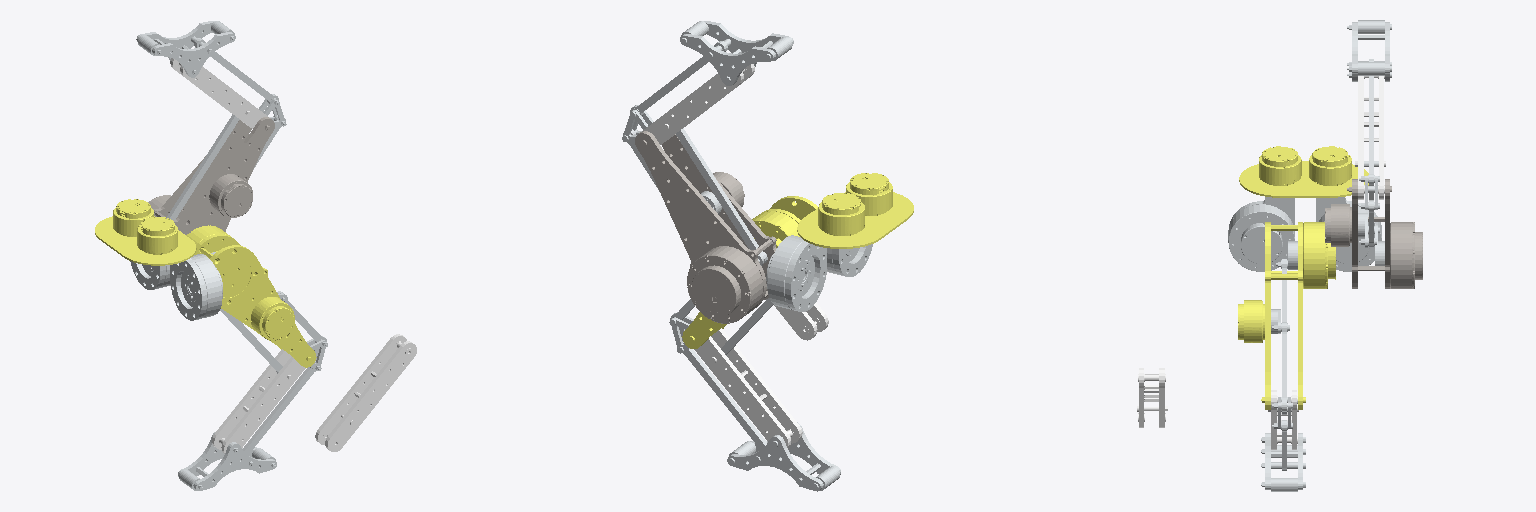
--- Render facts (derived) ---
The picture shows the robot from 3 angles, left to right: view 1: azimuth 30°, elevation 25°; view 2: azimuth 150°, elevation 25°; view 3: azimuth 270°, elevation 25°; orthographic projection.
Model Birobot with 29 links and 28 joints (28 revolute), rooted at base_link, posed all joints at 0.
Links seen in each view (by area): view 1: Rthigh_Link, Lthigh_Link, base_link, Rknee_Link00, Rknee_Link0, Rhipyaw_Link, Lankle_Link00, Lknee_Link0, Rankle_Link00, Lknee_Link2, Rankle_Link4, Rankle_Link0 (+4 smaller); view 2: Lthigh_Link, base_link, Rknee_Link0, Lhipyaw_Link, Rankle_Link0, Lankle_Link0, Rthigh_Link, Lknee_Link00, Lknee_Link2, Rankle_Link4, Rhipyaw_Link, Rknee_Link00 (+2 smaller); view 3: Rthigh_Link, base_link, Lthigh_Link, Rhipyaw_Link, Lankle_Link00, Lknee_Link0, Rankle_Link00, Lhipyaw_Link, Rknee_Link00, Rknee_Link0, Lankle_Link4.
Boxes of the visible links, x1,y1,x2,y2 form: Rthigh_Link: [186, 225, 316, 367]; Lthigh_Link: [148, 117, 274, 234]; base_link: [95, 199, 196, 265]; Rknee_Link00: [315, 334, 416, 451]; Rknee_Link0: [212, 349, 305, 453]; Rhipyaw_Link: [170, 254, 222, 320]; Lankle_Link00: [138, 21, 235, 77]; Lknee_Link0: [173, 59, 267, 128]; Rankle_Link00: [188, 444, 276, 490]; Lknee_Link2: [167, 114, 239, 219]; Rankle_Link4: [242, 361, 315, 454]; Rankle_Link0: [178, 432, 274, 489]; Lthigh_Link: [635, 131, 776, 323]; base_link: [797, 173, 913, 248]; Rknee_Link0: [694, 328, 802, 447]; Lhipyaw_Link: [766, 235, 826, 311]; Rankle_Link0: [727, 422, 840, 491]; Lankle_Link0: [680, 21, 793, 85]; Rthigh_Link: [682, 196, 817, 348]; Lknee_Link00: [642, 64, 754, 144]; Lknee_Link2: [676, 128, 767, 262]; Rankle_Link4: [683, 342, 766, 449]; Rhipyaw_Link: [827, 244, 872, 276]; Rknee_Link00: [774, 302, 828, 340]; Rthigh_Link: [1238, 222, 1335, 409]; base_link: [1239, 146, 1368, 197]; Lthigh_Link: [1325, 179, 1422, 288]; Rhipyaw_Link: [1228, 197, 1294, 271]; Lankle_Link00: [1347, 20, 1391, 81]; Lknee_Link0: [1355, 76, 1385, 199]; Rankle_Link00: [1261, 435, 1305, 491]; Lhipyaw_Link: [1316, 197, 1381, 271]; Rknee_Link00: [1137, 368, 1167, 427]; Rknee_Link0: [1268, 390, 1298, 449]; Lankle_Link4: [1368, 59, 1374, 184].
Bounding box of the posed robot: 0.4022 × 0.4203 × 0.708 m (x, y, z).
27 mesh visuals loaded from 29 distinct referenced files (27 binary STL); not drawn: 2 (reference not matched to a file when rendering).

URDF robot description (Birobot):
<?xml version="1.0" encoding="utf-8"?>
<!-- This URDF was automatically created by SolidWorks to URDF Exporter! Originally created by Stephen Brawner ([email redacted]) 
     Commit Version: 1.6.0-4-g7f85cfe  Build Version: 1.6.7995.38578
     For more information, please see http://wiki.ros.org/sw_urdf_exporter -->
<robot
  name="Birobot">
  <link
    name="base_link">
    <inertial>
      <origin
        xyz="5.9939E-06 1.3757E-06 0.013421"
        rpy="0 0 0" />
      <mass
        value="0.25833" />
      <inertia
        ixx="0.00020539"
        ixy="5.7279E-09"
        ixz="-8.1347E-08"
        iyy="0.00012438"
        iyz="4.7175E-10"
        izz="0.0003054" />
    </inertial>
    <visual>
      <origin
        xyz="0 0 0"
        rpy="0 0 0" />
      <geometry>
        <mesh
          filename="package://Birobot/meshes/base_link.STL" />
      </geometry>
      <material
        name="">
        <color
          rgba="1 1 0.50196 1" />
      </material>
    </visual>
    <collision>
      <origin
        xyz="0 0 0"
        rpy="0 0 0" />
      <geometry>
        <mesh
          filename="package://Birobot/meshes/base_link.STL" />
      </geometry>
    </collision>
  </link>
  <link
    name="Lhipyaw_Link">
    <inertial>
      <origin
        xyz="0.04428 0.020247 -0.054611"
        rpy="0 0 0" />
      <mass
        value="0.44004" />
      <inertia
        ixx="0.00069189"
        ixy="-3.1893E-05"
        ixz="7.9122E-05"
        iyy="0.00048982"
        iyz="8.5172E-05"
        izz="0.00036575" />
    </inertial>
    <visual>
      <origin
        xyz="0 0 0"
        rpy="0 0 0" />
      <geometry>
        <mesh
          filename="package://Birobot/meshes/Lhipyaw_Link.STL" />
      </geometry>
      <material
        name="">
        <color
          rgba="0.89804 0.91765 0.92941 1" />
      </material>
    </visual>
    <collision>
      <origin
        xyz="0 0 0"
        rpy="0 0 0" />
      <geometry>
        <mesh
          filename="package://Birobot/meshes/Lhipyaw_Link.STL" />
      </geometry>
    </collision>
  </link>
  <joint
    name="Lhipyaw_Joint"
    type="revolute">
    <origin
      xyz="0 0.037 -0.001"
      rpy="0 0 0" />
    <parent
      link="base_link" />
    <child
      link="Lhipyaw_Link" />
    <axis
      xyz="0 0 -1" />
    <limit
      lower="0"
      upper="0"
      effort="0"
      velocity="0" />
  </joint>
  <link
    name="Lhiproll_Link">
    <inertial>
      <origin
        xyz="-7.9446E-05 0.010187 -0.064399"
        rpy="0 0 0" />
      <mass
        value="0.35154" />
      <inertia
        ixx="0.0003301"
        ixy="-2.6902E-10"
        ixz="2.3445E-07"
        iyy="0.00050002"
        iyz="3.365E-07"
        izz="0.00020527" />
    </inertial>
    <visual>
      <origin
        xyz="0 0 0"
        rpy="0 0 0" />
      <geometry>
        <mesh
          filename="package://Birobot/meshes/Lhiproll_Link.STL" />
      </geometry>
      <material
        name="">
        <color
          rgba="1 1 1 1" />
      </material>
    </visual>
    <collision>
      <origin
        xyz="0 0 0"
        rpy="0 0 0" />
      <geometry>
        <mesh
          filename="package://Birobot/meshes/Lhiproll_Link.STL" />
      </geometry>
    </collision>
  </link>
  <joint
    name="Lhiproll_Joint"
    type="revolute">
    <origin
      xyz="0.0425 0.027 -0.068"
      rpy="0 -1.5708 0" />
    <parent
      link="Lhipyaw_Link" />
    <child
      link="Lhiproll_Link" />
    <axis
      xyz="0 0 -1" />
    <limit
      lower="0"
      upper="0"
      effort="0"
      velocity="0" />
  </joint>
  <link
    name="Lthigh_Link">
    <inertial>
      <origin
        xyz="-0.031371 -0.039893 -0.041867"
        rpy="0 0 0" />
      <mass
        value="0.88123" />
      <inertia
        ixx="0.0018457"
        ixy="-0.0011024"
        ixz="8.8513E-07"
        iyy="0.0013492"
        iyz="1.0947E-06"
        izz="0.0031339" />
    </inertial>
    <visual>
      <origin
        xyz="0 0 0"
        rpy="0 0 0" />
      <geometry>
        <mesh
          filename="package://Birobot/meshes/Lthigh_Link.STL" />
      </geometry>
      <material
        name="">
        <color
          rgba="0.77647 0.75686 0.73725 1" />
      </material>
    </visual>
    <collision>
      <origin
        xyz="0 0 0"
        rpy="0 0 0" />
      <geometry>
        <mesh
          filename="package://Birobot/meshes/Lthigh_Link.STL" />
      </geometry>
    </collision>
  </link>
  <joint
    name="Lthigh_Joint"
    type="revolute">
    <origin
      xyz="0 -0.00016695 -0.07722"
      rpy="1.5708 -1.5708 0" />
    <parent
      link="Lhiproll_Link" />
    <child
      link="Lthigh_Link" />
    <axis
      xyz="0 0 -1" />
    <limit
      lower="0"
      upper="0"
      effort="0"
      velocity="0" />
  </joint>
  <link
    name="Lknee_Link0">
    <inertial>
      <origin
        xyz="5.5511E-17 0.091361 -0.020001"
        rpy="0 0 0" />
      <mass
        value="0.2238" />
      <inertia
        ixx="0.00063293"
        ixy="1.5683E-07"
        ixz="2.9219E-21"
        iyy="1.6155E-05"
        iyz="-1.5988E-19"
        izz="0.00064549" />
    </inertial>
    <visual>
      <origin
        xyz="0 0 0"
        rpy="0 0 0" />
      <geometry>
        <mesh
          filename="package://Birobot/meshes/Lknee_Link0.STL" />
      </geometry>
      <material
        name="">
        <color
          rgba="1 1 1 1" />
      </material>
    </visual>
    <collision>
      <origin
        xyz="0 0 0"
        rpy="0 0 0" />
      <geometry>
        <mesh
          filename="package://Birobot/meshes/Lknee_Link0.STL" />
      </geometry>
    </collision>
  </link>
  <joint
    name="Lknee_Joint0"
    type="revolute">
    <origin
      xyz="-0.1356 -0.1707 -0.053166"
      rpy="3.1416 0 0.80367" />
    <parent
      link="Lthigh_Link" />
    <child
      link="Lknee_Link0" />
    <axis
      xyz="0 0 -1" />
    <limit
      lower="0"
      upper="0"
      effort="0"
      velocity="0" />
  </joint>
  <link
    name="Lankle_Link0">
    <inertial>
      <origin
        xyz="-0.02316 0.021254 -0.020033"
        rpy="0 0 0" />
      <mass
        value="0.18428" />
      <inertia
        ixx="0.00011788"
        ixy="-6.7978E-05"
        ixz="4.6496E-20"
        iyy="9.8345E-05"
        iyz="2.5317E-20"
        izz="0.00020063" />
    </inertial>
    <visual>
      <origin
        xyz="0 0 0"
        rpy="0 0 0" />
      <geometry>
        <mesh
          filename="package://Birobot/meshes/Lankle_Link0.STL" />
      </geometry>
      <material
        name="">
        <color
          rgba="0.89804 0.91765 0.92941 1" />
      </material>
    </visual>
    <collision>
      <origin
        xyz="0 0 0"
        rpy="0 0 0" />
      <geometry>
        <mesh
          filename="package://Birobot/meshes/Lankle_Link0.STL" />
      </geometry>
    </collision>
  </link>
  <joint
    name="Lankle_Joint0"
    type="revolute">
    <origin
      xyz="0 0.18 0"
      rpy="0 0 0" />
    <parent
      link="Lknee_Link0" />
    <child
      link="Lankle_Link0" />
    <axis
      xyz="0 0 -1" />
    <limit
      lower="0"
      upper="0"
      effort="0"
      velocity="0" />
  </joint>
  <link
    name="Lknee_Link1">
    <inertial>
      <origin
        xyz="-0.0043933 -0.0012539 -0.01135"
        rpy="0 0 0" />
      <mass
        value="0.063612" />
      <inertia
        ixx="1.0928E-05"
        ixy="-1.8185E-06"
        ixz="-1.7084E-06"
        iyy="1.678E-05"
        iyz="-4.876E-07"
        izz="2.294E-05" />
    </inertial>
    <visual>
      <origin
        xyz="0 0 0"
        rpy="0 0 0" />
      <geometry>
        <mesh
          filename="package://Birobot/meshes/Lknee_Link1.STL" />
      </geometry>
      <material
        name="">
        <color
          rgba="0.89804 0.91765 0.92941 1" />
      </material>
    </visual>
    <collision>
      <origin
        xyz="0 0 0"
        rpy="0 0 0" />
      <geometry>
        <mesh
          filename="package://Birobot/meshes/Lknee_Link1.STL" />
      </geometry>
    </collision>
  </link>
  <joint
    name="Lknee_Joint1"
    type="revolute">
    <origin
      xyz="0 0 -0.058666"
      rpy="-3.1416 0 2.6525" />
    <parent
      link="Lthigh_Link" />
    <child
      link="Lknee_Link1" />
    <axis
      xyz="0 0 -1" />
    <limit
      lower="0"
      upper="0"
      effort="0"
      velocity="0" />
  </joint>
  <link
    name="Lknee_Link2">
    <inertial>
      <origin
        xyz="0.10163 -0.022939 0.001"
        rpy="0 0 0" />
      <mass
        value="0.060722" />
      <inertia
        ixx="1.3034E-05"
        ixy="5.3364E-05"
        ixz="5.0445E-20"
        iyy="0.00023741"
        iyz="-1.1883E-20"
        izz="0.00024984" />
    </inertial>
    <visual>
      <origin
        xyz="0 0 0"
        rpy="0 0 0" />
      <geometry>
        <mesh
          filename="package://Birobot/meshes/Lknee_Link2.STL" />
      </geometry>
      <material
        name="">
        <color
          rgba="0.89804 0.91765 0.92941 1" />
      </material>
    </visual>
    <collision>
      <origin
        xyz="0 0 0"
        rpy="0 0 0" />
      <geometry>
        <mesh
          filename="package://Birobot/meshes/Lknee_Link2.STL" />
      </geometry>
    </collision>
  </link>
  <joint
    name="Lknee_Joint2"
    type="revolute">
    <origin
      xyz="-0.038464 -0.010978 -0.0245"
      rpy="-3.1416 0 -1.6106" />
    <parent
      link="Lknee_Link1" />
    <child
      link="Lknee_Link2" />
    <axis
      xyz="0 0 -1" />
    <limit
      lower="0"
      upper="0"
      effort="0"
      velocity="0" />
  </joint>
  <link
    name="Lknee_Link00">
    <inertial>
      <origin
        xyz="-2.7756E-16 0.055757 -0.0040013"
        rpy="0 0 0" />
      <mass
        value="0.21352" />
      <inertia
        ixx="0.00063281"
        ixy="1.5683E-07"
        ixz="2.9136E-21"
        iyy="1.604E-05"
        iyz="-7.8528E-22"
        izz="0.00064528" />
    </inertial>
    <visual>
      <origin
        xyz="0 0 0"
        rpy="0 0 0" />
      <geometry>
        <mesh
          filename="package://Birobot/meshes/Lknee_Link00.STL" />
      </geometry>
      <material
        name="">
        <color
          rgba="1 1 1 1" />
      </material>
    </visual>
    <collision>
      <origin
        xyz="0 0 0"
        rpy="0 0 0" />
      <geometry>
        <mesh
          filename="package://Birobot/meshes/Lknee_Link00.STL" />
      </geometry>
    </collision>
  </link>
  <joint
    name="Lknee_Joint00"
    type="revolute">
    <origin
      xyz="0.21265 -0.047998 -0.003"
      rpy="-3.1416 0 2.8238" />
    <parent
      link="Lknee_Link2" />
    <child
      link="Lknee_Link00" />
    <axis
      xyz="0 0 1" />
    <limit
      lower="0"
      upper="0"
      effort="0"
      velocity="0" />
  </joint>
  <link
    name="Lankle_Link34">
    <inertial>
      <origin
        xyz="-0.020409 -0.011256 -0.020082"
        rpy="0 0 0" />
      <mass
        value="0.026431" />
      <inertia
        ixx="3.971E-06"
        ixy="1.1011E-20"
        ixz="-1.4757E-21"
        iyy="3.971E-06"
        iyz="-9.6414E-24"
        izz="7.5989E-06" />
    </inertial>
    <visual>
      <origin
        xyz="0 0 0"
        rpy="0 0 0" />
      <geometry>
        <mesh
          filename="package://Birobot/meshes/Lankle_Link34.STL" />
      </geometry>
      <material
        name="">
        <color
          rgba="0.89804 0.91765 0.92941 1" />
      </material>
    </visual>
    <collision>
      <origin
        xyz="0 0 0"
        rpy="0 0 0" />
      <geometry>
        <mesh
          filename="package://Birobot/meshes/Lankle_Link34.STL" />
      </geometry>
    </collision>
  </link>
  <joint
    name="Lankle_Joint34"
    type="revolute">
    <origin
      xyz="-0.1356 -0.1707 -0.053166"
      rpy="3.1416 0 0.80367" />
    <parent
      link="Lthigh_Link" />
    <child
      link="Lankle_Link34" />
    <axis
      xyz="0 0 -1" />
    <limit
      lower="0"
      upper="0"
      effort="0"
      velocity="0" />
  </joint>
  <link
    name="Lankle_Link1">
    <inertial>
      <origin
        xyz="0.0049753 0.0013511 -0.01237"
        rpy="0 0 0" />
      <mass
        value="0.056795" />
      <inertia
        ixx="8.3546E-06"
        ixy="-1.6903E-06"
        ixz="1.8487E-06"
        iyy="1.412E-05"
        iyz="5.0202E-07"
        izz="1.7523E-05" />
    </inertial>
    <visual>
      <origin
        xyz="0 0 0"
        rpy="0 0 0" />
      <geometry>
        <mesh
          filename="package://Birobot/meshes/Lankle_Link1.STL" />
      </geometry>
      <material
        name="">
        <color
          rgba="0.89804 0.91765 0.92941 1" />
      </material>
    </visual>
    <collision>
      <origin
        xyz="0 0 0"
        rpy="0 0 0" />
      <geometry>
        <mesh
          filename="package://Birobot/meshes/Lankle_Link1.STL" />
      </geometry>
    </collision>
  </link>
  <joint
    name="Lankle_Joint1"
    type="revolute">
    <origin
      xyz="-0.0622 -0.078301 -0.0061661"
      rpy="0 0 2.6525" />
    <parent
      link="Lthigh_Link" />
    <child
      link="Lankle_Link1" />
    <axis
      xyz="0 0 -1" />
    <limit
      lower="0"
      upper="0"
      effort="0"
      velocity="0" />
  </joint>
  <link
    name="Lankle_Link2">
    <inertial>
      <origin
        xyz="-0.045124 -0.038011 0.001"
        rpy="0 0 0" />
      <mass
        value="0.040005" />
      <inertia
        ixx="1.757E-05"
        ixy="-2.0075E-05"
        ixz="-1.363E-20"
        iyy="2.4491E-05"
        iyz="-1.1453E-20"
        izz="4.1715E-05" />
    </inertial>
    <visual>
      <origin
        xyz="0 0 0"
        rpy="0 0 0" />
      <geometry>
        <mesh
          filename="package://Birobot/meshes/Lankle_Link2.STL" />
      </geometry>
      <material
        name="">
        <color
          rgba="0.89804 0.91765 0.92941 1" />
      </material>
    </visual>
    <collision>
      <origin
        xyz="0 0 0"
        rpy="0 0 0" />
      <geometry>
        <mesh
          filename="package://Birobot/meshes/Lankle_Link2.STL" />
      </geometry>
    </collision>
  </link>
  <joint
    name="Lankle_Joint2"
    type="revolute">
    <origin
      xyz="0.038602 0.010483 -0.026"
      rpy="3.1416 0 -1.053" />
    <parent
      link="Lankle_Link1" />
    <child
      link="Lankle_Link2" />
    <axis
      xyz="0 0 -1" />
    <limit
      lower="0"
      upper="0"
      effort="0"
      velocity="0" />
  </joint>
  <link
    name="Lankle_Link3">
    <inertial>
      <origin
        xyz="-0.011654 0.019815 0.00091832"
        rpy="0 0 0" />
      <mass
        value="0.026431" />
      <inertia
        ixx="3.971E-06"
        ixy="6.141E-21"
        ixz="1.8418E-21"
        iyy="3.971E-06"
        iyz="-6.6243E-22"
        izz="7.5989E-06" />
    </inertial>
    <visual>
      <origin
        xyz="0 0 0"
        rpy="0 0 0" />
      <geometry>
        <mesh
          filename="package://Birobot/meshes/Lankle_Link3.STL" />
      </geometry>
      <material
        name="">
        <color
          rgba="0.89804 0.91765 0.92941 1" />
      </material>
    </visual>
    <collision>
      <origin
        xyz="0 0 0"
        rpy="0 0 0" />
      <geometry>
        <mesh
          filename="package://Birobot/meshes/Lankle_Link3.STL" />
      </geometry>
    </collision>
  </link>
  <joint
    name="Lankle_Joint3"
    type="revolute">
    <origin
      xyz="-0.090248 -0.076022 0"
      rpy="0 0 0.25268" />
    <parent
      link="Lankle_Link2" />
    <child
      link="Lankle_Link3" />
    <axis
      xyz="0 0 -1" />
    <limit
      lower="0"
      upper="0"
      effort="0"
      velocity="0" />
  </joint>
  <link
    name="Lankle_Link4">
    <inertial>
      <origin
        xyz="-0.040424 -0.073296 0.001"
        rpy="0 0 0" />
      <mass
        value="0.050145" />
      <inertia
        ixx="0.0001106"
        ixy="-6.055E-05"
        ixz="1.392E-20"
        iyy="3.4209E-05"
        iyz="2.4678E-20"
        izz="0.00014432" />
    </inertial>
    <visual>
      <origin
        xyz="0 0 0"
        rpy="0 0 0" />
      <geometry>
        <mesh
          filename="package://Birobot/meshes/Lankle_Link4.STL" />
      </geometry>
      <material
        name="">
        <color
          rgba="0.89804 0.91765 0.92941 1" />
      </material>
    </visual>
    <collision>
      <origin
        xyz="0 0 0"
        rpy="0 0 0" />
      <geometry>
        <mesh
          filename="package://Birobot/meshes/Lankle_Link4.STL" />
      </geometry>
    </collision>
  </link>
  <joint
    name="Lankle_Joint4"
    type="revolute">
    <origin
      xyz="-0.034641 0.02 0"
      rpy="0 0 -2.0944" />
    <parent
      link="Lankle_Link3" />
    <child
      link="Lankle_Link4" />
    <axis
      xyz="0 0 -1" />
    <limit
      lower="0"
      upper="0"
      effort="0"
      velocity="0" />
  </joint>
  <link
    name="Lankle_Link00">
    <inertial>
      <origin
        xyz="0.016833 0.02047 0.0039674"
        rpy="0 0 0" />
      <mass
        value="0.18428" />
      <inertia
        ixx="0.00011788"
        ixy="-6.7978E-05"
        ixz="7.2734E-20"
        iyy="9.8345E-05"
        iyz="6.461E-20"
        izz="0.00020063" />
    </inertial>
    <visual>
      <origin
        xyz="0 0 0"
        rpy="0 0 0" />
      <geometry>
        <mesh
          filename="package://Birobot/meshes/Lankle_Link00.STL" />
      </geometry>
      <material
        name="">
        <color
          rgba="0.89804 0.91765 0.92941 1" />
      </material>
    </visual>
    <collision>
      <origin
        xyz="0 0 0"
        rpy="0 0 0" />
      <geometry>
        <mesh
          filename="package://Birobot/meshes/Lankle_Link00.STL" />
      </geometry>
    </collision>
  </link>
  <joint
    name="Lankle_Joint00"
    type="revolute">
    <origin
      xyz="-0.086929 -0.15762 -0.003"
      rpy="0 0 2.6376" />
    <parent
      link="Lankle_Link4" />
    <child
      link="Lankle_Link00" />
    <axis
      xyz="0 0 -1" />
    <limit
      lower="0"
      upper="0"
      effort="0"
      velocity="0" />
  </joint>
  <link
    name="Rhipyaw_Link">
    <inertial>
      <origin
        xyz="0.04428 -0.020256 -0.054605"
        rpy="0 0 0" />
      <mass
        value="0.44004" />
      <inertia
        ixx="0.00069189"
        ixy="3.1966E-05"
        ixz="7.908E-05"
        iyy="0.00048977"
        iyz="-8.5199E-05"
        izz="0.0003658" />
    </inertial>
    <visual>
      <origin
        xyz="0 0 0"
        rpy="0 0 0" />
      <geometry>
        <mesh
          filename="package://Birobot/meshes/Rhipyaw_Link.STL" />
      </geometry>
      <material
        name="">
        <color
          rgba="0.89804 0.91765 0.92941 1" />
      </material>
    </visual>
    <collision>
      <origin
        xyz="0 0 0"
        rpy="0 0 0" />
      <geometry>
        <mesh
          filename="package://Birobot/meshes/Rhipyaw_Link.STL" />
      </geometry>
    </collision>
  </link>
  <joint
    name="Rhipyaw_Joint"
    type="revolute">
    <origin
      xyz="0 -0.037 -0.001"
      rpy="0 0 0" />
    <parent
      link="base_link" />
    <child
      link="Rhipyaw_Link" />
    <axis
      xyz="0 0 -1" />
    <limit
      lower="0"
      upper="0"
      effort="0"
      velocity="0" />
  </joint>
  <link
    name="Rhiproll_Link">
    <inertial>
      <origin
        xyz="-7.1149E-05 -0.010187 -0.064408"
        rpy="0 0 0" />
      <mass
        value="0.35154" />
      <inertia
        ixx="0.00033004"
        ixy="5.4904E-08"
        ixz="2.4315E-07"
        iyy="0.00050002"
        iyz="-4.0087E-07"
        izz="0.00020532" />
    </inertial>
    <visual>
      <origin
        xyz="0 0 0"
        rpy="0 0 0" />
      <geometry>
        <mesh
          filename="package://Birobot/meshes/Rhiproll_Link.STL" />
      </geometry>
      <material
        name="">
        <color
          rgba="1 1 1 1" />
      </material>
    </visual>
    <collision>
      <origin
        xyz="0 0 0"
        rpy="0 0 0" />
      <geometry>
        <mesh
          filename="package://Birobot/meshes/Rhiproll_Link.STL" />
      </geometry>
    </collision>
  </link>
  <joint
    name="Rhiproll_Joint"
    type="revolute">
    <origin
      xyz="0.0425 -0.027 -0.068"
      rpy="0 -1.5708 0" />
    <parent
      link="Rhipyaw_Link" />
    <child
      link="Rhiproll_Link" />
    <axis
      xyz="0 0 -1" />
    <limit
      lower="0"
      upper="0"
      effort="0"
      velocity="0" />
  </joint>
  <link
    name="Rthigh_Link">
    <inertial>
      <origin
        xyz="-0.031458 0.039884 -0.041869"
        rpy="0 0 0" />
      <mass
        value="0.88123" />
      <inertia
        ixx="0.0018455"
        ixy="0.0011034"
        ixz="1.3021E-06"
        iyy="0.0013494"
        iyz="-1.1408E-06"
        izz="0.0031339" />
    </inertial>
    <visual>
      <origin
        xyz="0 0 0"
        rpy="0 0 0" />
      <geometry>
        <mesh
          filename="package://Birobot/meshes/Rthigh_Link.STL" />
      </geometry>
      <material
        name="">
        <color
          rgba="1 1 0.50196 1" />
      </material>
    </visual>
    <collision>
      <origin
        xyz="0 0 0"
        rpy="0 0 0" />
      <geometry>
        <mesh
          filename="package://Birobot/meshes/Rthigh_Link.STL" />
      </geometry>
    </collision>
  </link>
  <joint
    name="Rthigh_Joint"
    type="revolute">
    <origin
      xyz="0 0.00016695 -0.07722"
      rpy="1.5708 -1.5708 0" />
    <parent
      link="Rhiproll_Link" />
    <child
      link="Rthigh_Link" />
    <axis
      xyz="0 0 -1" />
    <limit
      lower="0"
      upper="0"
      effort="0"
      velocity="0" />
  </joint>
  <link
    name="Rknee_Link0">
    <inertial>
      <origin
        xyz="0 -0.091361 -0.020001"
        rpy="0 0 0" />
      <mass
        value="0.2238" />
      <inertia
        ixx="0.00063293"
        ixy="1.5683E-07"
        ixz="1.7158E-21"
        iyy="1.6155E-05"
        iyz="1.595E-19"
        izz="0.00064549" />
    </inertial>
    <visual>
      <origin
        xyz="0 0 0"
        rpy="0 0 0" />
      <geometry>
        <mesh
          filename="package://Birobot/meshes/Rknee_Link0.STL" />
      </geometry>
      <material
        name="">
        <color
          rgba="1 1 1 1" />
      </material>
    </visual>
    <collision>
      <origin
        xyz="0 0 0"
        rpy="0 0 0" />
      <geometry>
        <mesh
          filename="package://Birobot/meshes/Rknee_Link0.STL" />
      </geometry>
    </collision>
  </link>
  <joint
    name="Rknee_Joint0"
    type="revolute">
    <origin
      xyz="-0.1356 0.1707 -0.053166"
      rpy="-3.1416 0 -0.80367" />
    <parent
      link="Rthigh_Link" />
    <child
      link="Rknee_Link0" />
    <axis
      xyz="0 0 -1" />
    <limit
      lower="0"
      upper="0"
      effort="0"
      velocity="0" />
  </joint>
  <link
    name="Rankle_Link0">
    <inertial>
      <origin
        xyz="-0.02316 -0.021254 -0.020033"
        rpy="0 0 0" />
      <mass
        value="0.18428" />
      <inertia
        ixx="0.00011788"
        ixy="6.7978E-05"
        ixz="-3.8512E-20"
        iyy="9.8345E-05"
        iyz="-7.3385E-20"
        izz="0.00020063" />
    </inertial>
    <visual>
      <origin
        xyz="0 0 0"
        rpy="0 0 0" />
      <geometry>
        <mesh
          filename="package://Birobot/meshes/Rankle_Link0.STL" />
      </geometry>
      <material
        name="">
        <color
          rgba="0.89804 0.91765 0.92941 1" />
      </material>
    </visual>
    <collision>
      <origin
        xyz="0 0 0"
        rpy="0 0 0" />
      <geometry>
        <mesh
          filename="package://Birobot/meshes/Rankle_Link0.STL" />
      </geometry>
    </collision>
  </link>
  <joint
    name="Rankle_Joint0"
    type="revolute">
    <origin
      xyz="0 -0.18 0"
      rpy="0 0 0" />
    <parent
      link="Rknee_Link0" />
    <child
      link="Rankle_Link0" />
    <axis
      xyz="0 0 -1" />
    <limit
      lower="0"
      upper="0"
      effort="0"
      velocity="0" />
  </joint>
  <link
    name="Rknee_Link1">
    <inertial>
      <origin
        xyz="-0.0043933 0.0012539 -0.01135"
        rpy="0 0 0" />
      <mass
        value="0.063612" />
      <inertia
        ixx="1.0928E-05"
        ixy="1.8185E-06"
        ixz="-1.7084E-06"
        iyy="1.678E-05"
        iyz="4.876E-07"
        izz="2.294E-05" />
    </inertial>
    <visual>
      <origin
        xyz="0 0 0"
        rpy="0 0 0" />
      <geometry>
        <mesh
          filename="package://Birobot/meshes/Rknee_Link1.STL" />
      </geometry>
      <material
        name="">
        <color
          rgba="0.89804 0.91765 0.92941 1" />
      </material>
    </visual>
    <collision>
      <origin
        xyz="0 0 0"
        rpy="0 0 0" />
      <geometry>
        <mesh
          filename="package://Birobot/meshes/Rknee_Link1.STL" />
      </geometry>
    </collision>
  </link>
  <joint
    name="Rknee_Joint1"
    type="revolute">
    <origin
      xyz="0 0 -0.058666"
      rpy="3.1416 0 -2.6525" />
    <parent
      link="Rthigh_Link" />
    <child
      link="Rknee_Link1" />
    <axis
      xyz="0 0 -1" />
    <limit
      lower="0"
      upper="0"
      effort="0"
      velocity="0" />
  </joint>
  <link
    name="Rknee_Link2">
    <inertial>
      <origin
        xyz="0.095923 0.021651 0.001"
        rpy="0 0 0" />
      <mass
        value="0.060722" />
      <inertia
        ixx="1.3034E-05"
        ixy="-5.3364E-05"
        ixz="5.3985E-20"
        iyy="0.00023741"
        iyz="1.3208E-20"
        izz="0.00024984" />
    </inertial>
    <visual>
      <origin
        xyz="0 0 0"
        rpy="0 0 0" />
      <geometry>
        <mesh
          filename="package://Birobot/meshes/Rknee_Link2.STL" />
      </geometry>
      <material
        name="">
        <color
          rgba="0.89804 0.91765 0.92941 1" />
      </material>
    </visual>
    <collision>
      <origin
        xyz="0 0 0"
        rpy="0 0 0" />
      <geometry>
        <mesh
          filename="package://Birobot/meshes/Rknee_Link2.STL" />
      </geometry>
    </collision>
  </link>
  <joint
    name="Rknee_Joint2"
    type="revolute">
    <origin
      xyz="-0.038464 0.010978 -0.0245"
      rpy="3.1416 0 1.6106" />
    <parent
      link="Rknee_Link1" />
    <child
      link="Rknee_Link2" />
    <axis
      xyz="0 0 -1" />
    <limit
      lower="0"
      upper="0"
      effort="0"
      velocity="0" />
  </joint>
  <link
    name="Rknee_Link00">
    <inertial>
      <origin
        xyz="-2.2204E-16 0.051361 -0.19866"
        rpy="0 0 0" />
      <mass
        value="0.2238" />
      <inertia
        ixx="0.00063293"
        ixy="-1.5683E-07"
        ixz="-1.8267E-21"
        iyy="1.6155E-05"
        iyz="3.7128E-22"
        izz="0.00064549" />
    </inertial>
    <visual>
      <origin
        xyz="0 0 0"
        rpy="0 0 0" />
      <geometry>
        <mesh
          filename="package://Birobot/meshes/Rknee_Link00.STL" />
      </geometry>
      <material
        name="">
        <color
          rgba="1 1 1 1" />
      </material>
    </visual>
    <collision>
      <origin
        xyz="0 0 0"
        rpy="0 0 0" />
      <geometry>
        <mesh
          filename="package://Birobot/meshes/Rknee_Link00.STL" />
      </geometry>
    </collision>
  </link>
  <joint
    name="Rknee_Joint00"
    type="revolute">
    <origin
      xyz="0.21265 0.047998 0.19967"
      rpy="0 0 -2.8238" />
    <parent
      link="Rknee_Link2" />
    <child
      link="Rknee_Link00" />
    <axis
      xyz="0 0 -1" />
    <limit
      lower="0"
      upper="0"
      effort="0"
      velocity="0" />
  </joint>
  <link
    name="Rankle_Link34">
    <inertial>
      <origin
        xyz="-0.020409 0.011256 -0.020082"
        rpy="0 0 0" />
      <mass
        value="0.026431" />
      <inertia
        ixx="3.971E-06"
        ixy="-5.9292E-21"
        ixz="-9.1808E-22"
        iyy="3.971E-06"
        iyz="2.1498E-22"
        izz="7.5989E-06" />
    </inertial>
    <visual>
      <origin
        xyz="0 0 0"
        rpy="0 0 0" />
      <geometry>
        <mesh
          filename="package://Birobot/meshes/Rankle_Link34.STL" />
      </geometry>
      <material
        name="">
        <color
          rgba="0.89804 0.91765 0.92941 1" />
      </material>
    </visual>
    <collision>
      <origin
        xyz="0 0 0"
        rpy="0 0 0" />
      <geometry>
        <mesh
          filename="package://Birobot/meshes/Rankle_Link34.STL" />
      </geometry>
    </collision>
  </link>
  <joint
    name="Rankle_Joint34"
    type="revolute">
    <origin
      xyz="-0.1356 0.1707 -0.053166"
      rpy="-3.1416 0 -0.80367" />
    <parent
      link="Rthigh_Link" />
    <child
      link="Rankle_Link34" />
    <axis
      xyz="0 0 -1" />
    <limit
      lower="0"
      upper="0"
      effort="0"
      velocity="0" />
  </joint>
  <link
    name="Rankle_Link1">
    <inertial>
      <origin
        xyz="0.0049753 -0.0013511 -0.01237"
        rpy="0 0 0" />
      <mass
        value="0.056795" />
      <inertia
        ixx="8.3546E-06"
        ixy="1.6903E-06"
        ixz="1.8487E-06"
        iyy="1.412E-05"
        iyz="-5.0202E-07"
        izz="1.7523E-05" />
    </inertial>
    <visual>
      <origin
        xyz="0 0 0"
        rpy="0 0 0" />
      <geometry>
        <mesh
          filename="package://Birobot/meshes/Rankle_Link1.STL" />
      </geometry>
      <material
        name="">
        <color
          rgba="0.89804 0.91765 0.92941 1" />
      </material>
    </visual>
    <collision>
      <origin
        xyz="0 0 0"
        rpy="0 0 0" />
      <geometry>
        <mesh
          filename="package://Birobot/meshes/Rankle_Link1.STL" />
      </geometry>
    </collision>
  </link>
  <joint
    name="Rankle_Joint1"
    type="revolute">
    <origin
      xyz="-0.0622 0.078301 -0.0061661"
      rpy="0 0 -2.6525" />
    <parent
      link="Rthigh_Link" />
    <child
      link="Rankle_Link1" />
    <axis
      xyz="0 0 -1" />
    <limit
      lower="0"
      upper="0"
      effort="0"
      velocity="0" />
  </joint>
  <link
    name="Rankle_Link2">
    <inertial>
      <origin
        xyz="-0.042028 0.035403 0.00078553"
        rpy="0 0 0" />
      <mass
        value="0.037437" />
      <inertia
        ixx="1.7541E-05"
        ixy="2.0075E-05"
        ixz="-1.4464E-20"
        iyy="2.4462E-05"
        iyz="1.1859E-20"
        izz="4.1665E-05" />
    </inertial>
    <visual>
      <origin
        xyz="0 0 0"
        rpy="0 0 0" />
      <geometry>
        <mesh
          filename="package://Birobot/meshes/Rankle_Link2.STL" />
      </geometry>
      <material
        name="">
        <color
          rgba="0.89804 0.91765 0.92941 1" />
      </material>
    </visual>
    <collision>
      <origin
        xyz="0 0 0"
        rpy="0 0 0" />
      <geometry>
        <mesh
          filename="package://Birobot/meshes/Rankle_Link2.STL" />
      </geometry>
    </collision>
  </link>
  <joint
    name="Rankle_Joint2"
    type="revolute">
    <origin
      xyz="0.038602 -0.010483 -0.026"
      rpy="-3.1416 0 1.053" />
    <parent
      link="Rankle_Link1" />
    <child
      link="Rankle_Link2" />
    <axis
      xyz="0 0 -1" />
    <limit
      lower="0"
      upper="0"
      effort="0"
      velocity="0" />
  </joint>
  <link
    name="Rankle_Link3">
    <inertial>
      <origin
        xyz="-0.011654 -0.019815 0.00091832"
        rpy="0 0 0" />
      <mass
        value="0.026431" />
      <inertia
        ixx="3.971E-06"
        ixy="5.7175E-21"
        ixz="2.4253E-21"
        iyy="3.971E-06"
        iyz="5.4998E-22"
        izz="7.5989E-06" />
    </inertial>
    <visual>
      <origin
        xyz="0 0 0"
        rpy="0 0 0" />
      <geometry>
        <mesh
          filename="package://Birobot/meshes/Rankle_Link3.STL" />
      </geometry>
      <material
        name="">
        <color
          rgba="0.89804 0.91765 0.92941 1" />
      </material>
    </visual>
    <collision>
      <origin
        xyz="0 0 0"
        rpy="0 0 0" />
      <geometry>
        <mesh
          filename="package://Birobot/meshes/Rankle_Link3.STL" />
      </geometry>
    </collision>
  </link>
  <joint
    name="Rankle_Joint3"
    type="revolute">
    <origin
      xyz="-0.090248 0.076022 0"
      rpy="0 0 -0.25268" />
    <parent
      link="Rankle_Link2" />
    <child
      link="Rankle_Link3" />
    <axis
      xyz="0 0 -1" />
    <limit
      lower="0"
      upper="0"
      effort="0"
      velocity="0" />
  </joint>
  <link
    name="Rankle_Link4">
    <inertial>
      <origin
        xyz="-0.040424 0.073296 0.001"
        rpy="0 0 0" />
      <mass
        value="0.050145" />
      <inertia
        ixx="0.0001106"
        ixy="6.055E-05"
        ixz="1.3455E-20"
        iyy="3.4209E-05"
        iyz="-2.4653E-20"
        izz="0.00014432" />
    </inertial>
    <visual>
      <origin
        xyz="0 0 0"
        rpy="0 0 0" />
      <geometry>
        <mesh
          filename="package://Birobot/meshes/Rankle_Link4.STL" />
      </geometry>
      <material
        name="">
        <color
          rgba="0.89804 0.91765 0.92941 1" />
      </material>
    </visual>
    <collision>
      <origin
        xyz="0 0 0"
        rpy="0 0 0" />
      <geometry>
        <mesh
          filename="package://Birobot/meshes/Rankle_Link4.STL" />
      </geometry>
    </collision>
  </link>
  <joint
    name="Rankle_Joint4"
    type="revolute">
    <origin
      xyz="-0.034641 -0.02 0"
      rpy="0 0 2.0944" />
    <parent
      link="Rankle_Link3" />
    <child
      link="Rankle_Link4" />
    <axis
      xyz="0 0 -1" />
    <limit
      lower="0"
      upper="0"
      effort="0"
      velocity="0" />
  </joint>
  <link
    name="Rankle_Link00">
    <inertial>
      <origin
        xyz="0.016833 -0.02047 0.0039674"
        rpy="0 0 0" />
      <mass
        value="0.18428" />
      <inertia
        ixx="0.00011788"
        ixy="6.7978E-05"
        ixz="-1.2341E-20"
        iyy="9.8345E-05"
        iyz="-1.1273E-19"
        izz="0.00020063" />
    </inertial>
    <visual>
      <origin
        xyz="0 0 0"
        rpy="0 0 0" />
      <geometry>
        <mesh
          filename="package://Birobot/meshes/Rankle_Link00.STL" />
      </geometry>
      <material
        name="">
        <color
          rgba="0.89804 0.91765 0.92941 1" />
      </material>
    </visual>
    <collision>
      <origin
        xyz="0 0 0"
        rpy="0 0 0" />
      <geometry>
        <mesh
          filename="package://Birobot/meshes/Rankle_Link00.STL" />
      </geometry>
    </collision>
  </link>
  <joint
    name="Rankle_Joint00"
    type="revolute">
    <origin
      xyz="-0.086929 0.15762 -0.003"
      rpy="0 0 -2.6376" />
    <parent
      link="Rankle_Link4" />
    <child
      link="Rankle_Link00" />
    <axis
      xyz="0 0 -1" />
    <limit
      lower="0"
      upper="0"
      effort="0"
      velocity="0" />
  </joint>
</robot>
